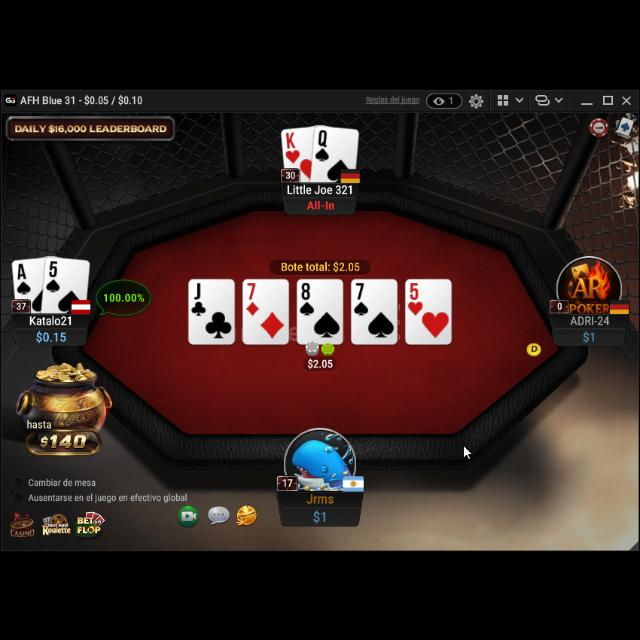4s: (352, 278, 370, 316)
5h: (408, 280, 424, 316)
5s: (44, 256, 62, 292)
7d: (243, 281, 263, 317)
7s: (352, 280, 370, 316)
8s: (298, 278, 316, 316), (298, 280, 316, 316)
As: (15, 260, 33, 294)
Jc: (190, 278, 208, 316)
Kh: (284, 128, 302, 164)
Qs: (314, 126, 331, 160)
all_in_symbol: (306, 196, 336, 210)
bet_text: (306, 354, 334, 368)
dealer: (524, 337, 544, 355)
pot_text: (280, 258, 360, 270)
stack_text: (35, 328, 67, 342), (312, 504, 328, 520), (582, 326, 596, 340)
